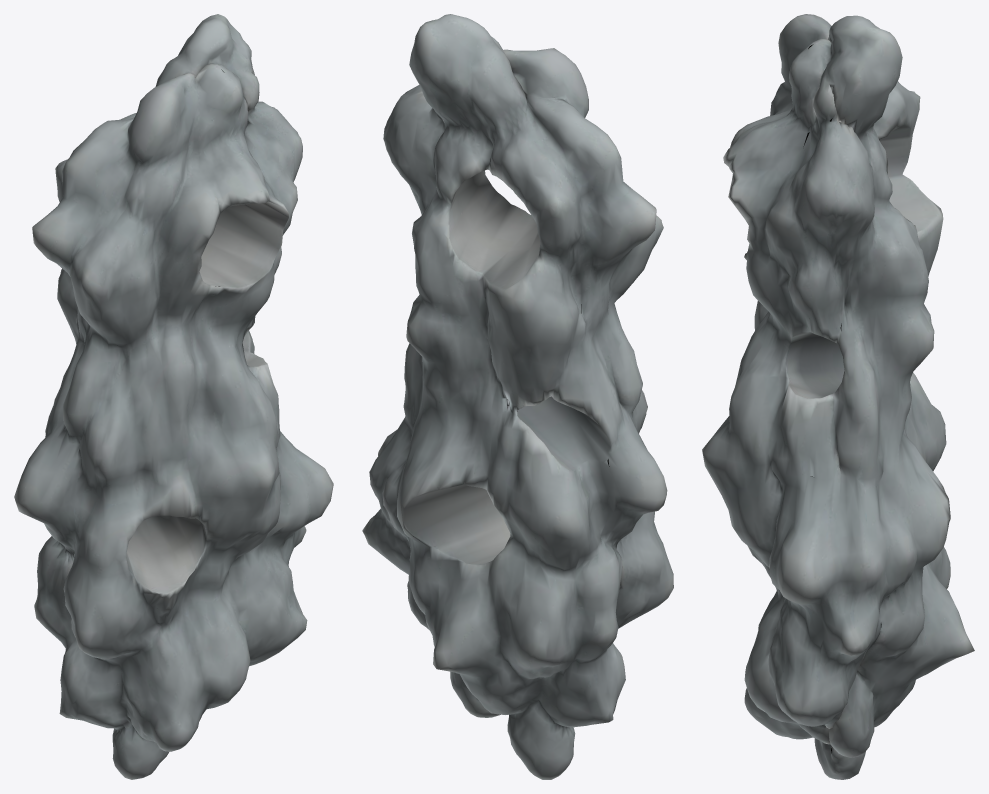
Rendered from taihu_rock.glb.
The picture shows the model from 3 angles, left to right: view 1: azimuth 30°, elevation 25°; view 2: azimuth 150°, elevation 25°; view 3: azimuth 270°, elevation 25°; orthographic projection. The views are drawn at different scales.
Parts seen in each view (by area): view 1: taihu_rock; view 2: taihu_rock; view 3: taihu_rock.
Boxes of the visible parts, x1=… form: taihu_rock: x1=14, y1=14, x2=333, y2=779; taihu_rock: x1=362, y1=14, x2=673, y2=779; taihu_rock: x1=702, y1=14, x2=974, y2=779.
Size of the model in its own units: 1.29 by 3.02 by 0.9291.
1 material, 1 textured.
